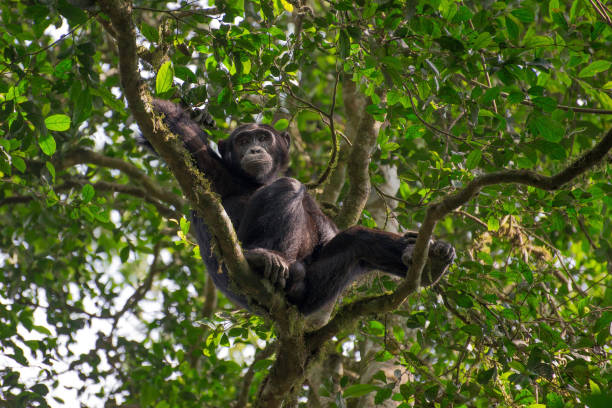chimpanzee: (199, 112, 303, 194)
